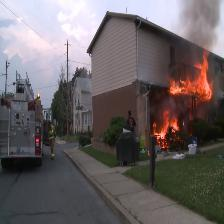fire: (151, 54, 222, 153)
smoke: (169, 2, 224, 53)
